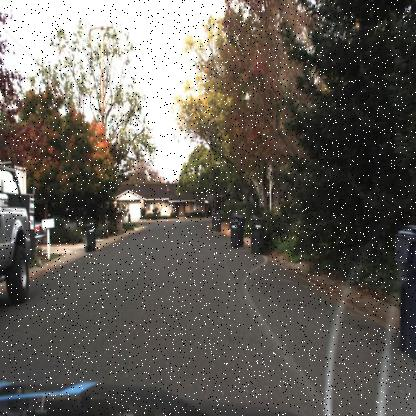car: (0, 156, 31, 306)
